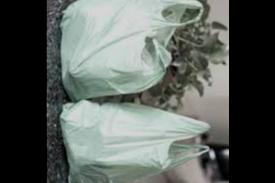Plastic: (55, 0, 205, 105), (58, 98, 213, 182)
